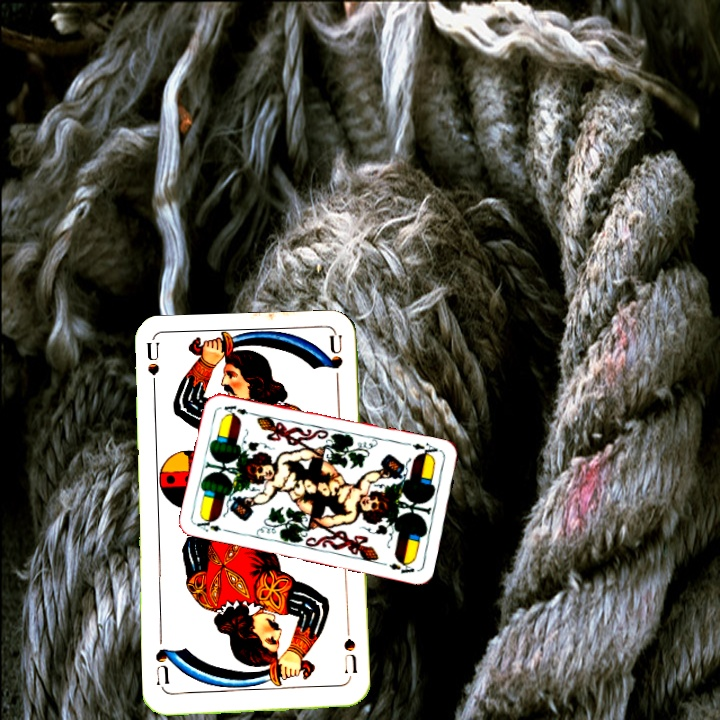EA: (192, 513, 233, 535), (403, 438, 443, 460)
SU: (142, 340, 162, 399), (340, 634, 360, 684)
